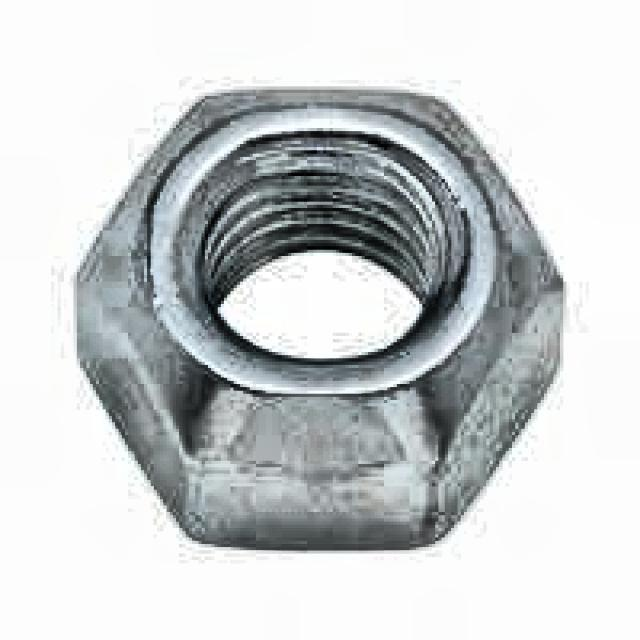Nut Detection - v1 Nut Dataset: (42, 80, 570, 560)
